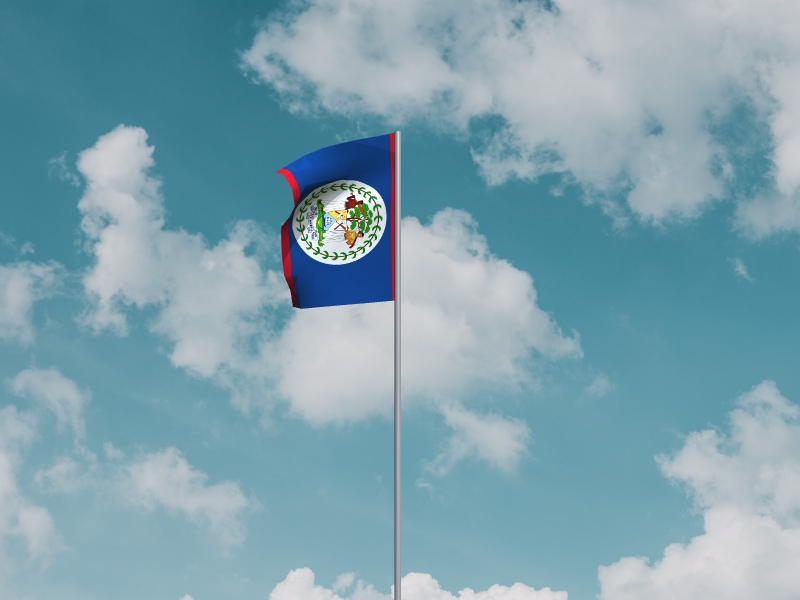bz: (275, 133, 395, 311)
